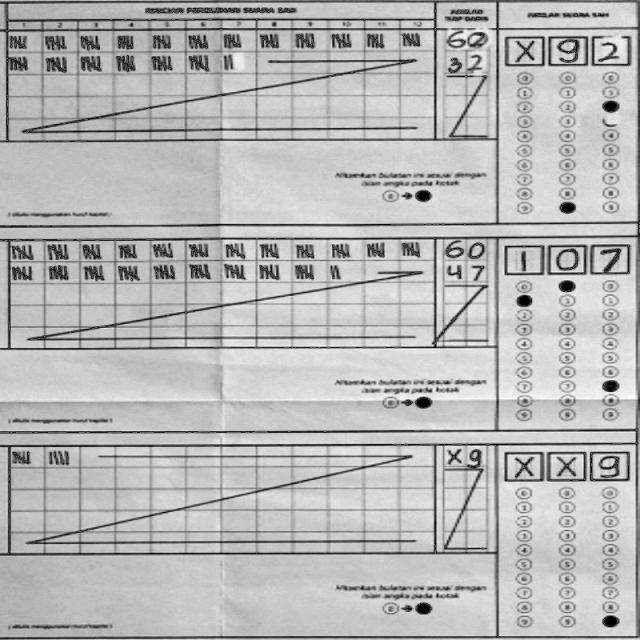Suara: (499, 27, 633, 69), (498, 239, 632, 281), (501, 443, 634, 485)
